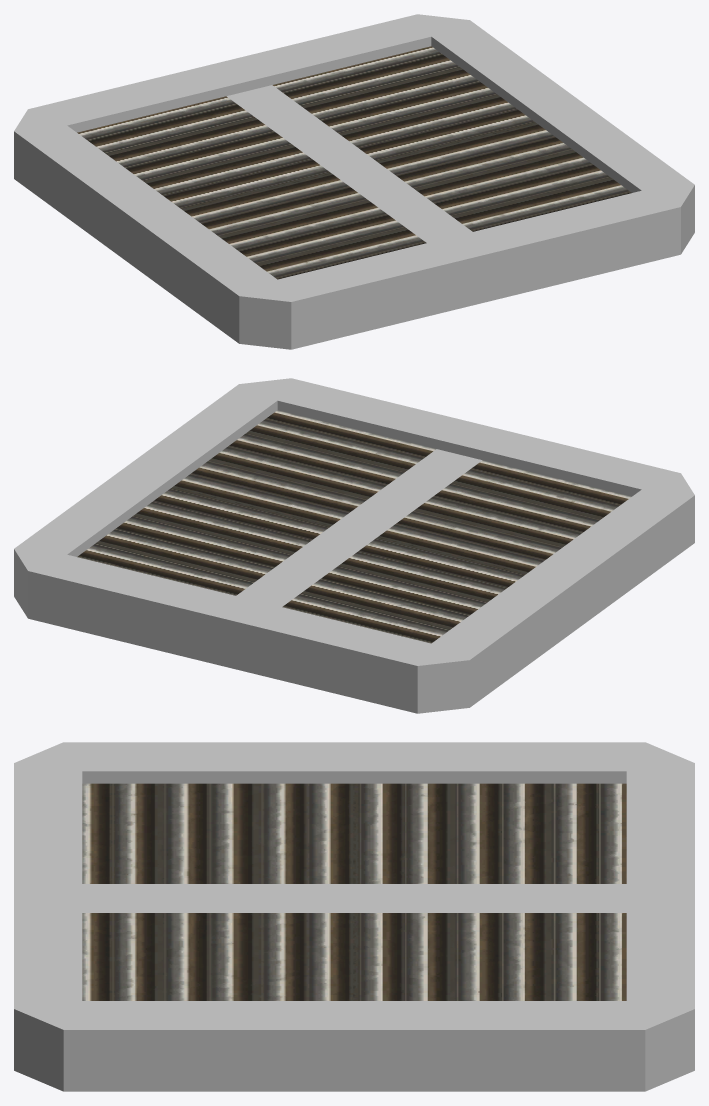
The model's file is FloorDecor1.fbx.
3 renders of one model, top to bottom at view 1: azimuth 30°, elevation 25°; view 2: azimuth 150°, elevation 25°; view 3: azimuth 270°, elevation 25°, orthographic. The views are drawn at different scales.
Parts seen in each view (by area): view 1: solar_squareDouble%_9; view 2: solar_squareDouble%_9; view 3: solar_squareDouble%_9.
Part boxes in pixels (<box>): solar_squareDouble%_9: <box>14,14,694,349</box>; solar_squareDouble%_9: <box>14,378,694,713</box>; solar_squareDouble%_9: <box>14,742,694,1091</box>.
Size of the model in its own units: 9.99 by 1 by 10.
